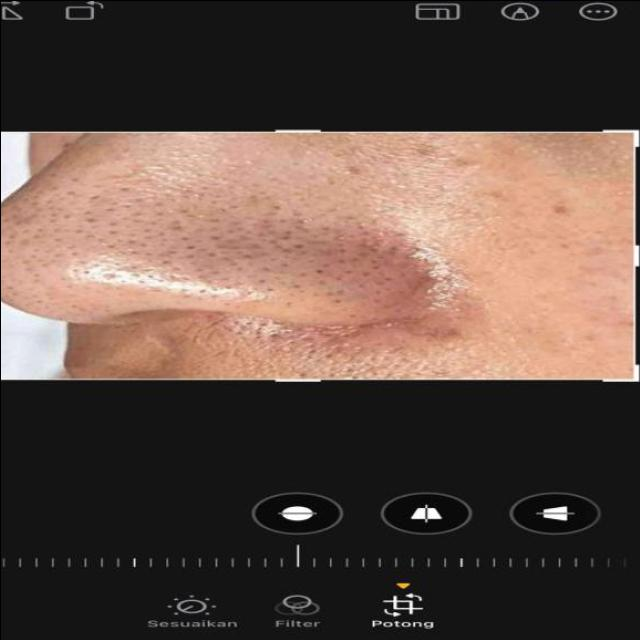blackhead: (0, 178, 436, 325)
